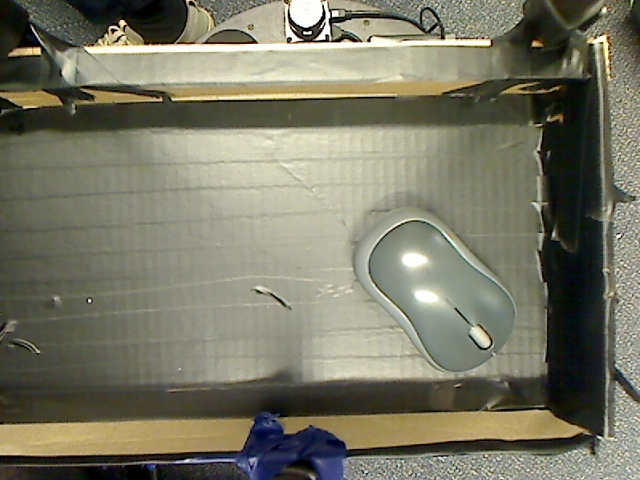mouse: (340, 198, 533, 384)
